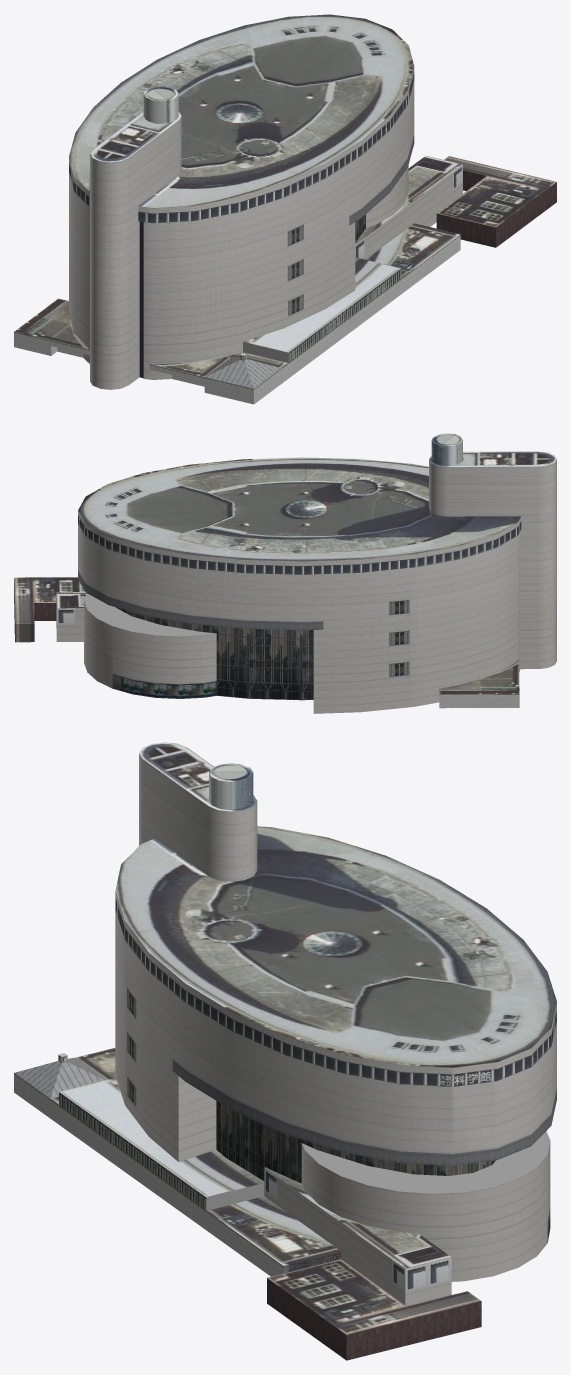
File: osaka.dae
3 views of the same model, one above another, from view 1: azimuth 30°, elevation 25°; view 2: azimuth 150°, elevation 25°; view 3: azimuth 270°, elevation 25° (orthographic). The views are drawn at different scales.
Parts seen in each view (by area): view 1: Group2, Group1; view 2: Group2, Group1; view 3: Group2, Group1.
Part boxes in pixels (x1,y1,x2,y2): Group2: (69,14,414,389); Group1: (14,155,556,404); Group2: (78,433,556,713); Group1: (14,577,519,708); Group2: (115,742,556,1281); Group1: (14,1048,481,1360).
Size of the model in its own units: 105 by 70.18 by 45.
Materials: 22 (19 with a texture image).
